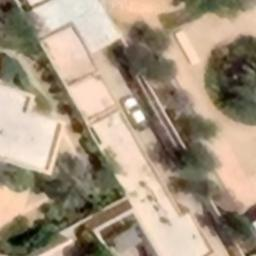sedan: (118, 94, 152, 133)
